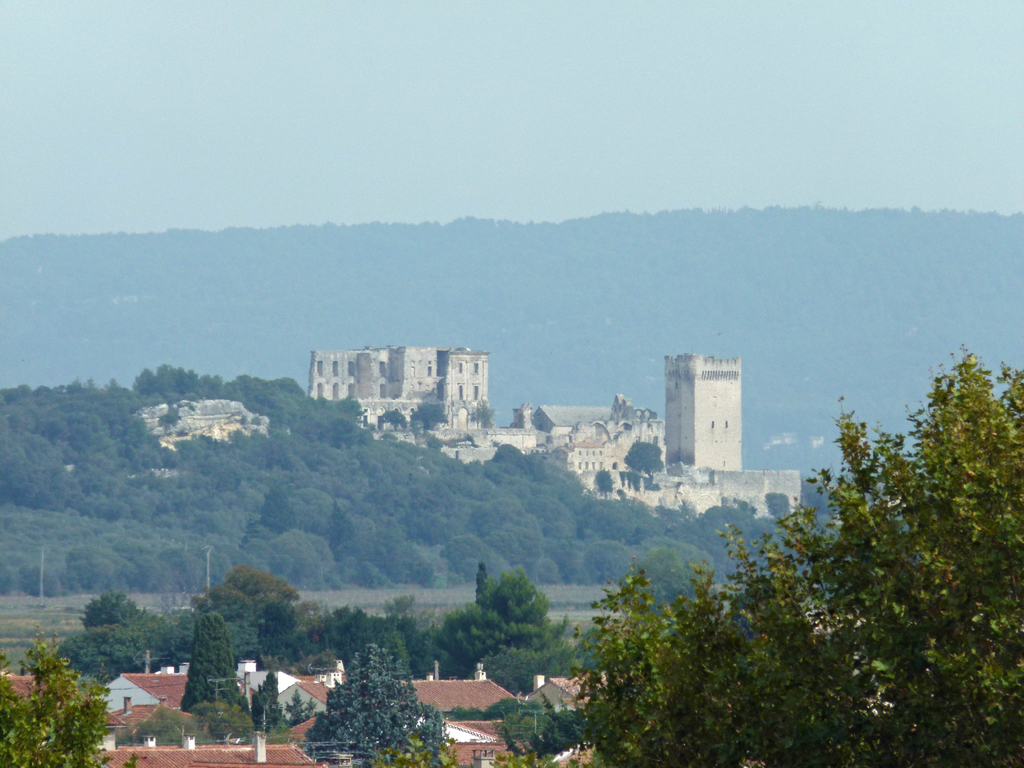Tree: (734, 341, 1023, 767), (568, 517, 828, 767), (0, 380, 159, 515), (0, 634, 119, 767), (346, 438, 480, 549), (321, 641, 442, 752), (625, 531, 736, 594), (476, 563, 556, 645), (431, 603, 519, 676), (323, 608, 410, 679), (174, 613, 256, 682), (216, 369, 318, 424), (263, 528, 340, 595), (66, 629, 161, 679), (376, 591, 428, 680), (257, 478, 343, 531), (261, 603, 332, 660), (218, 561, 298, 608), (193, 577, 259, 631), (75, 589, 145, 632), (438, 536, 510, 576), (136, 361, 201, 402), (618, 437, 666, 485), (483, 440, 530, 484), (311, 405, 350, 454), (406, 402, 451, 432), (370, 405, 403, 427), (595, 470, 611, 497)
